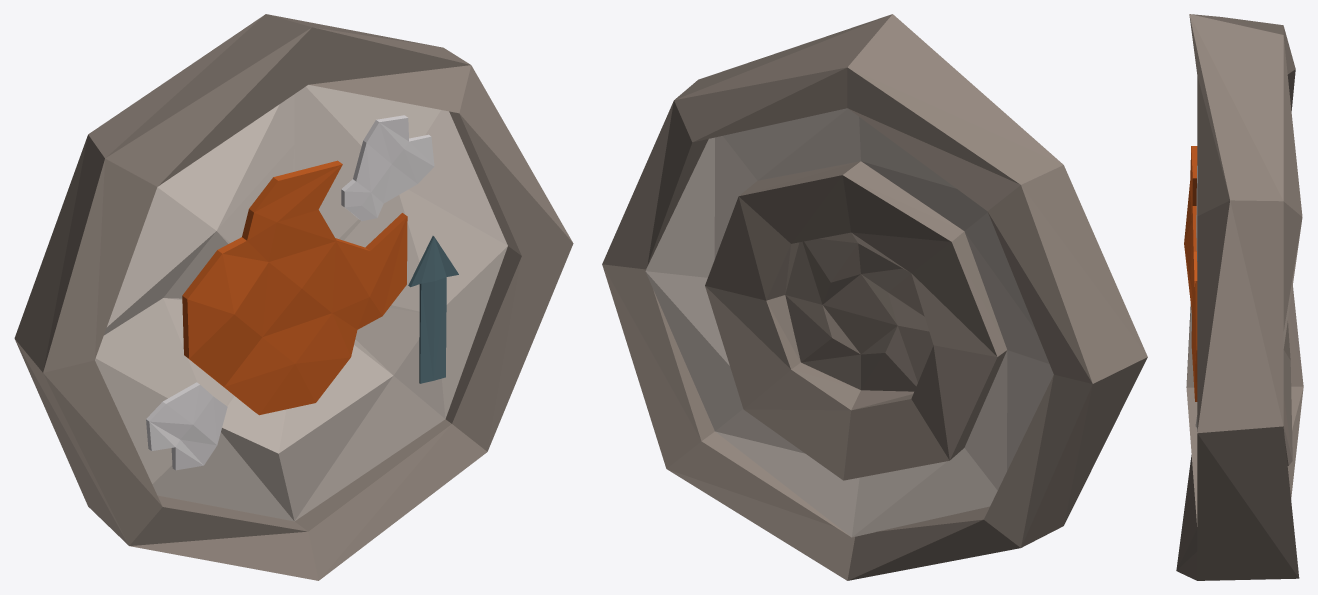
The model's file is item_fly_sp_up.FBX.
3 views of the same model, side by side, from view 1: azimuth 30°, elevation 25°; view 2: azimuth 150°, elevation 25°; view 3: azimuth 270°, elevation 25° (orthographic). The views are drawn at different scales.
Visible parts, largest first — view 1: coin, spup; view 2: coin; view 3: coin, spup.
Boxes of the visible parts, x1=… form: coin: x1=14, y1=14, x2=573, y2=580; spup: x1=146, y1=115, x2=458, y2=470; coin: x1=602, y1=14, x2=1147, y2=580; coin: x1=1176, y1=14, x2=1303, y2=580; spup: x1=1184, y1=146, x2=1197, y2=401.
Size of the model in its own units: 31.09 by 30.75 by 6.37.
1 material, 1 textured.
